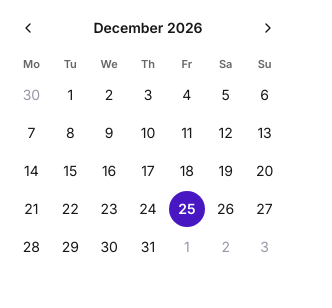
Test case: SetupCalendar › moves between months with the arrows
Click the button named "Next month".
click(268, 28)  # box [252,12,284,44]
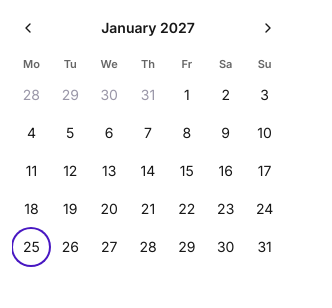
Expected: the text "January 2027" is shown, [101,18,195,38]
Click the button named "Previous month".
click(28, 28)  # box [12,12,44,44]
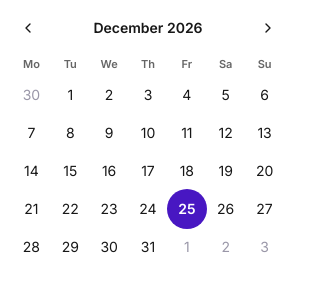
Click the button named "Previous month".
click(28, 28)  # box [12,12,44,44]
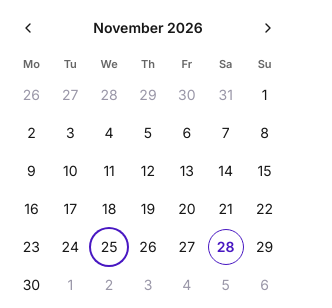
Expected: the text "November 2026" is shown, [93,18,203,38]
